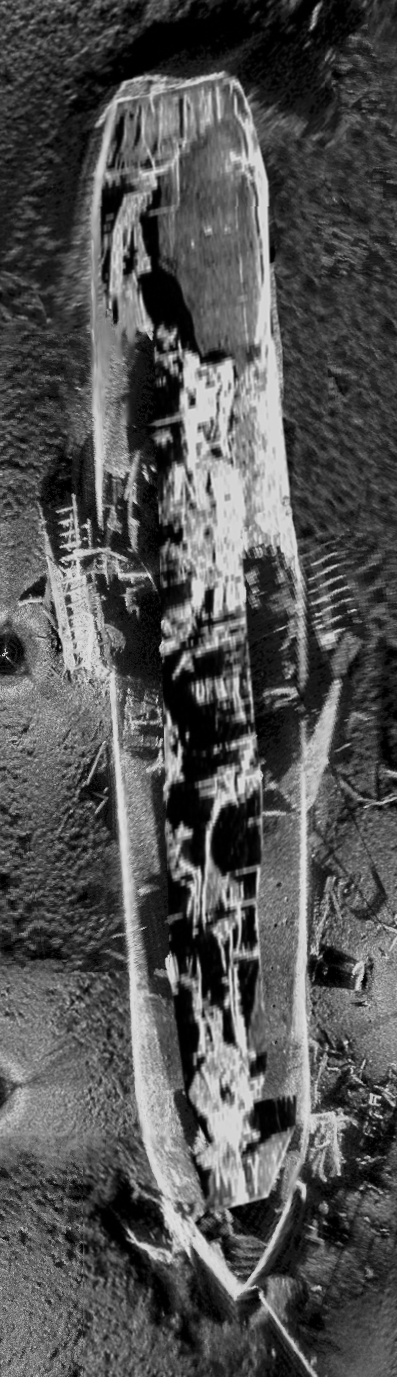ship: (40, 60, 371, 1316)
